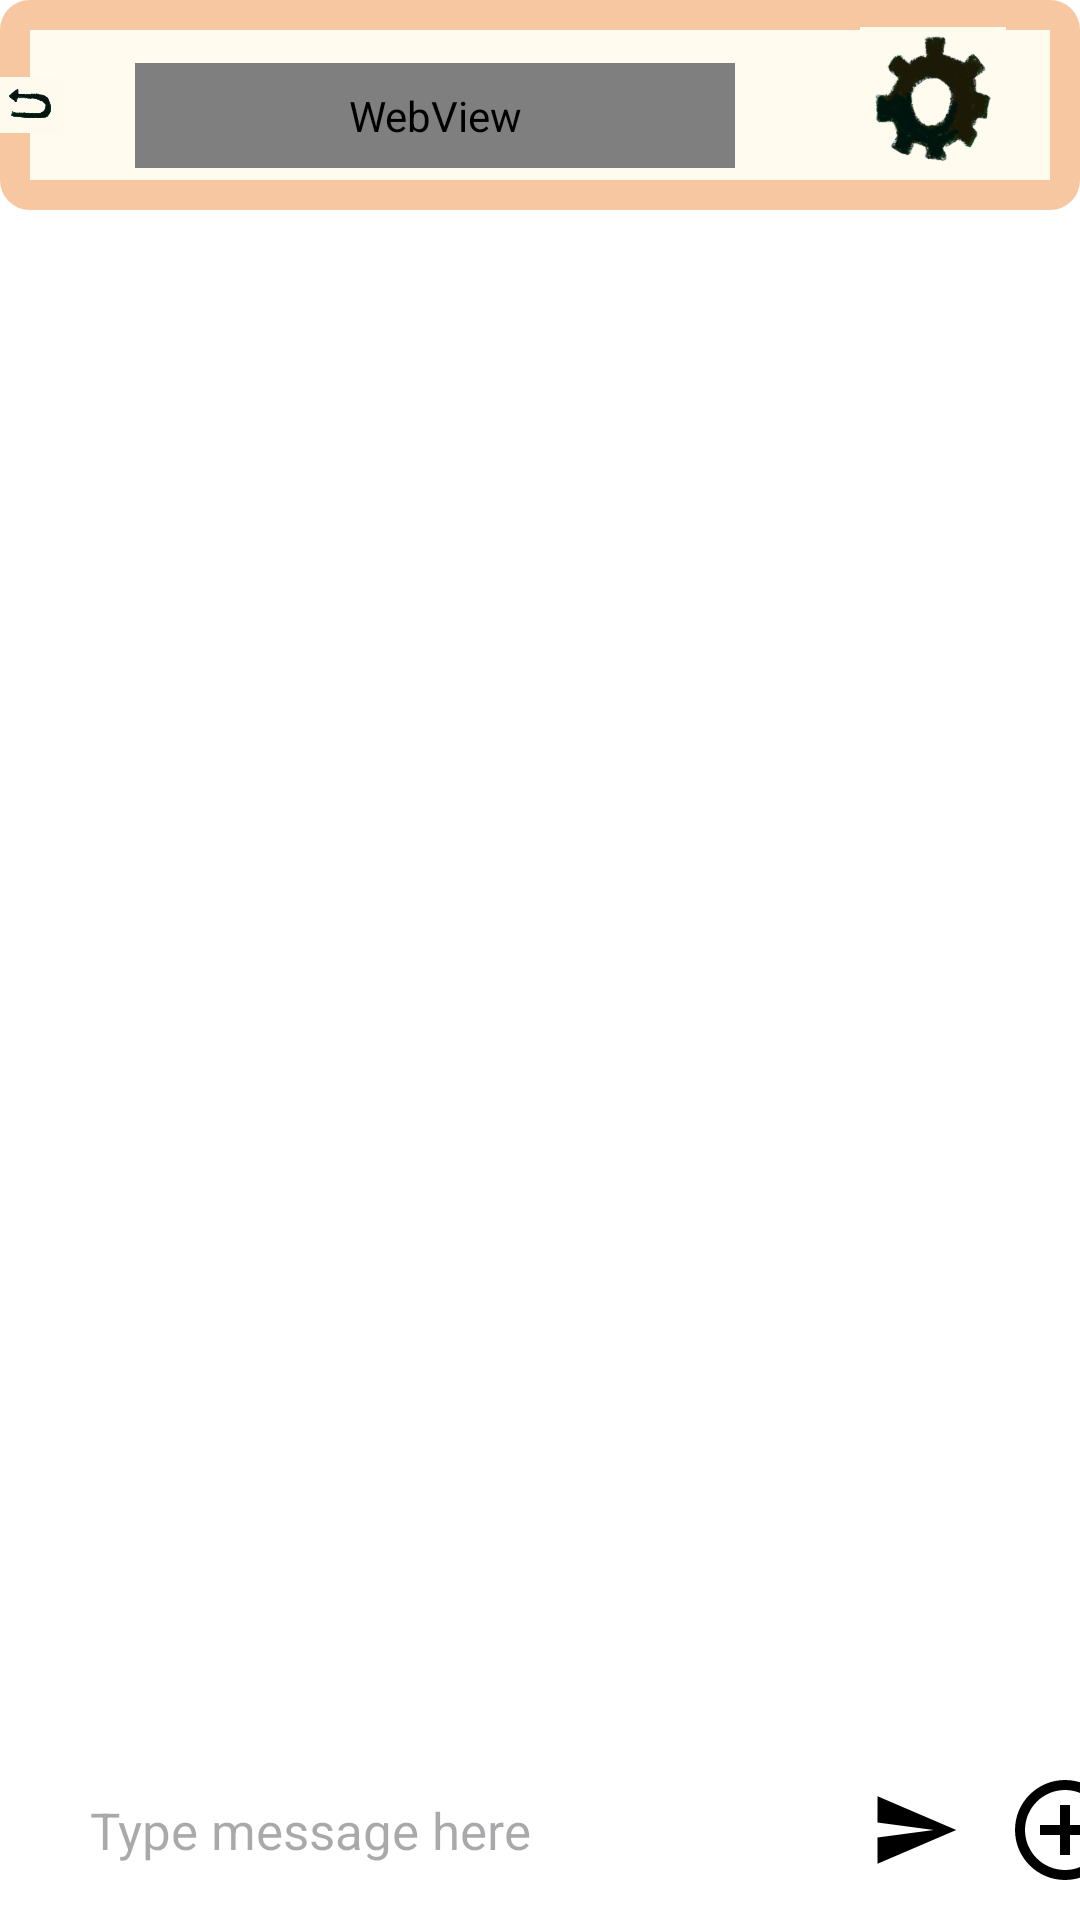

Where to tap for icons on this 1080px×1920px app screen, as (x=x, y=y):
chat back: (x=31, y=105)
chat setting: (x=933, y=98)
send: (x=916, y=1830)
